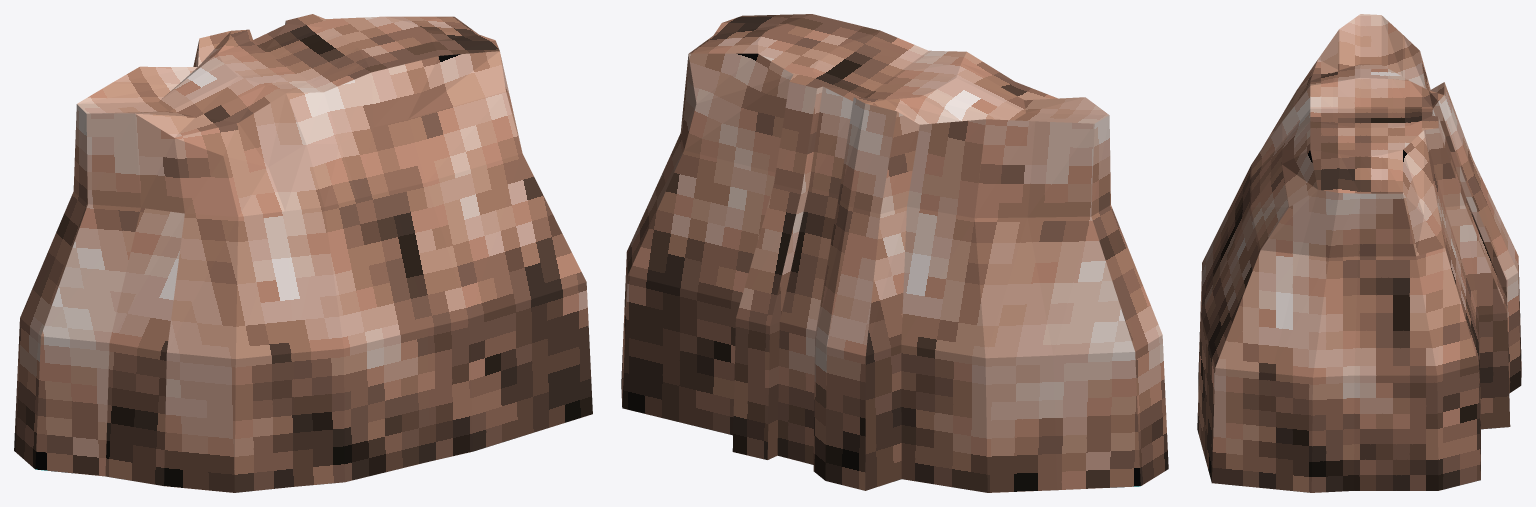
File: rock_341x00.gltf
3 renders of one model, left to right at view 1: azimuth 30°, elevation 25°; view 2: azimuth 150°, elevation 25°; view 3: azimuth 270°, elevation 25°, orthographic. The views are drawn at different scales.
Visible parts, largest first — view 1: Rock_341x0; view 2: Rock_341x0; view 3: Rock_341x0.
Boxes of the visible parts, x1,y1,x2,y2 form: Rock_341x0: (14,14,592,492); Rock_341x0: (621,14,1168,492); Rock_341x0: (1197,14,1521,492).
Bounding box in the file's own units: 2.76 × 1.8 × 1.8.
1 material, 1 textured.
